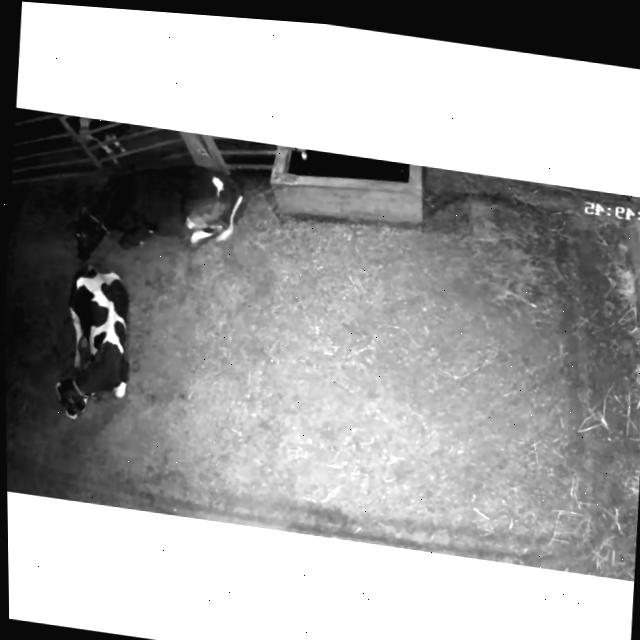lay: (52, 127, 254, 287), (41, 258, 159, 439)
